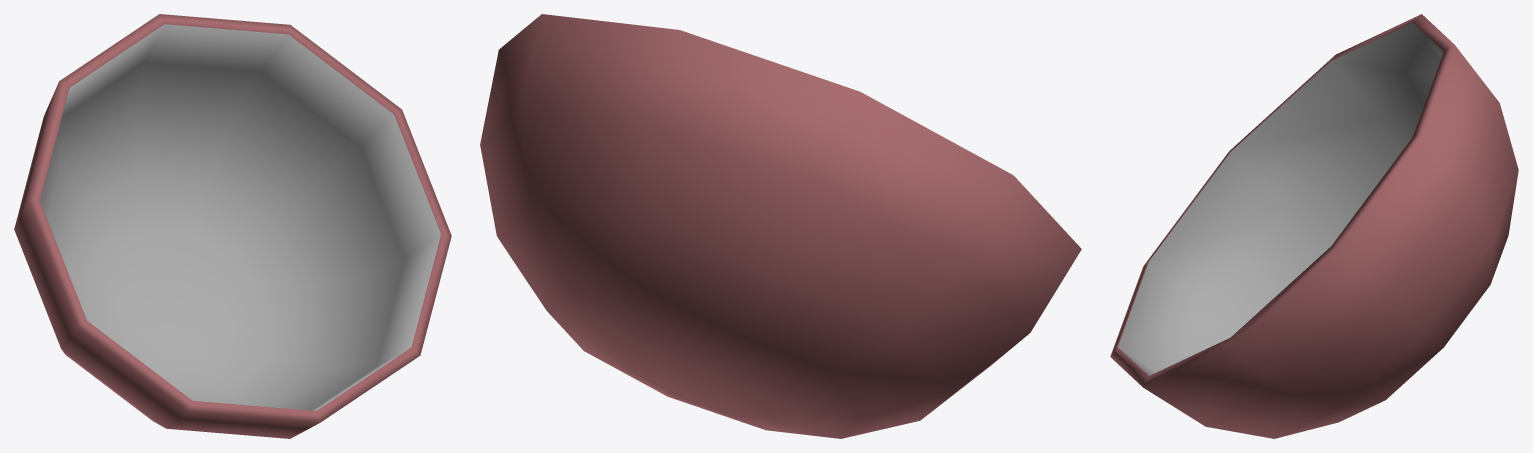
Rendered from LIGHT_REFLECTOR.fbx.
3 renders of one model, left to right at view 1: azimuth 30°, elevation 25°; view 2: azimuth 150°, elevation 25°; view 3: azimuth 270°, elevation 25°, orthographic. The views are drawn at different scales.
Parts seen in each view (by area): view 1: LIGHT_REFLECTOR; view 2: LIGHT_REFLECTOR; view 3: LIGHT_REFLECTOR.
Part boxes in pixels (x1,y1,x2,y2): LIGHT_REFLECTOR: (14,14,451,438); LIGHT_REFLECTOR: (480,14,1081,438); LIGHT_REFLECTOR: (1110,14,1518,438).
Bounding box in the file's own units: 35.51 × 31.31 × 31.31.
